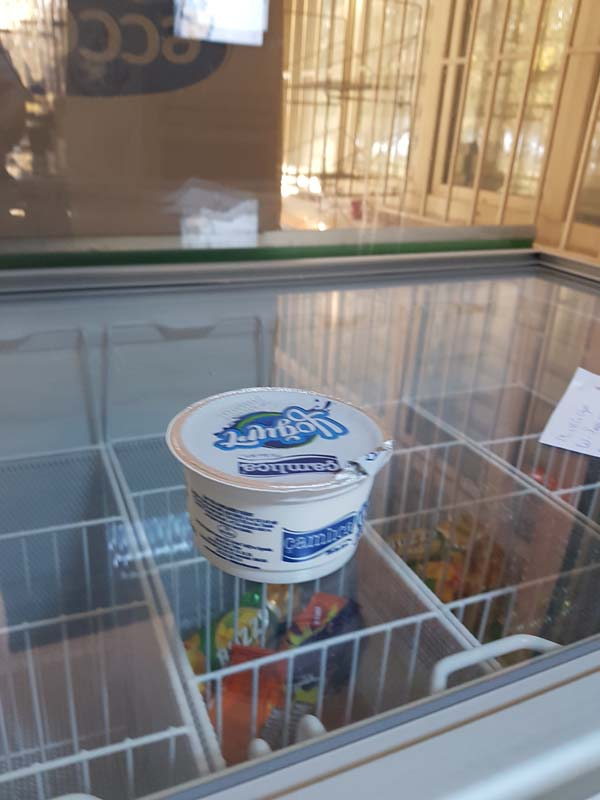camlicayogurt: (152, 384, 397, 589)
